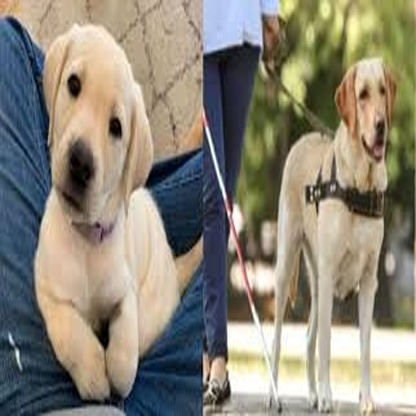guide-dog: (28, 14, 208, 399), (262, 53, 392, 416)
